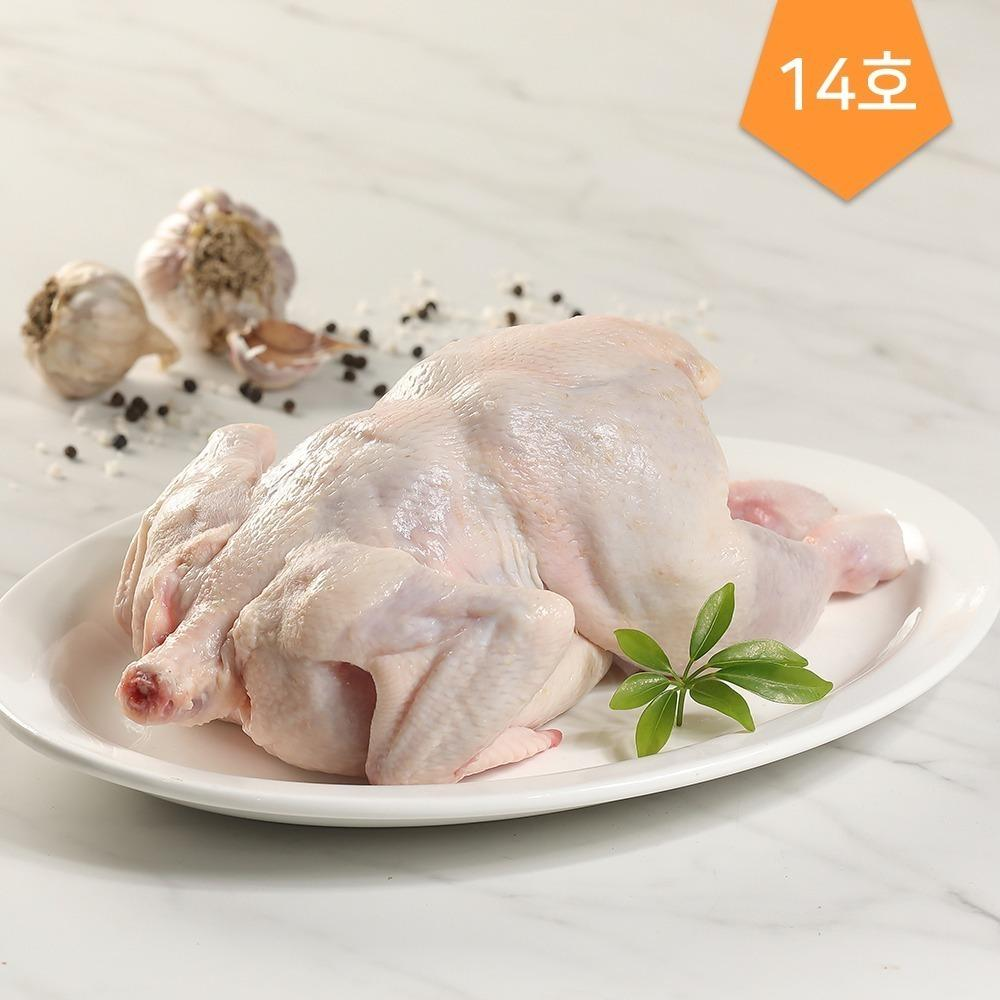chicken: (297, 486, 1000, 1000)
